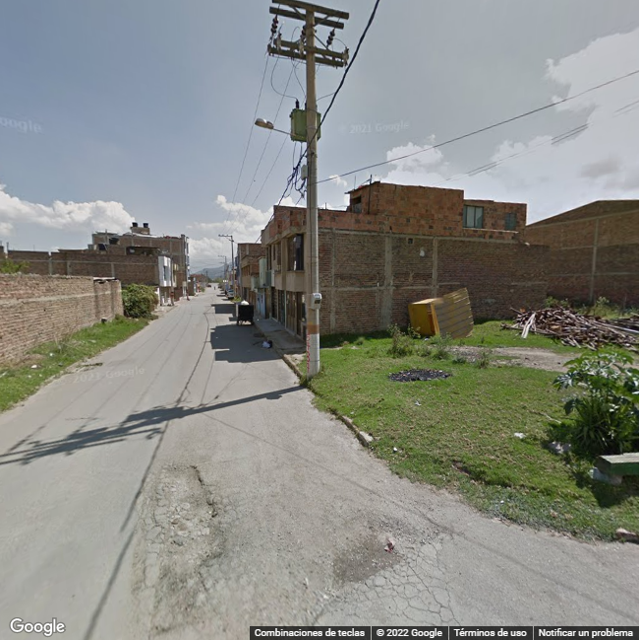D20: (351, 562, 467, 625)
D40: (140, 463, 224, 563)
